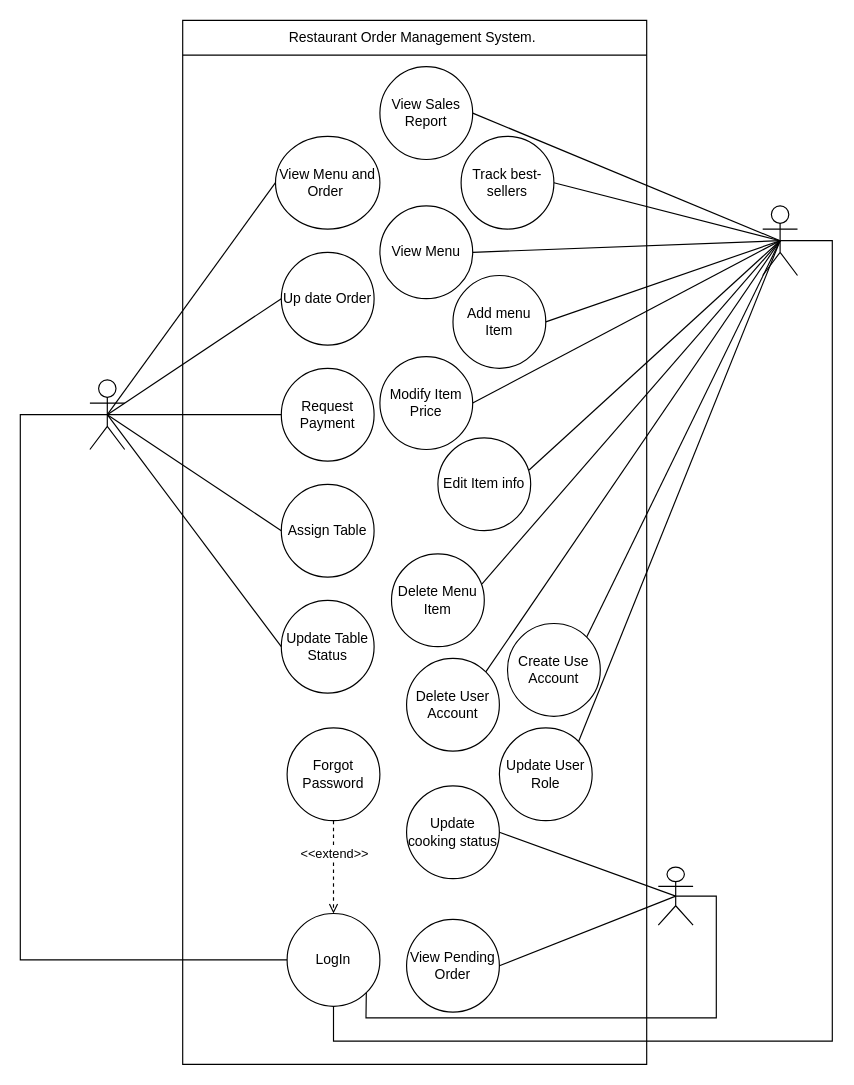
The diagram is 854 pixels wide and 1085 high, and some of its shapes have lost their labels. The centre of each missing label's shape, as x and y in pixels:
"Admin" goes at point (780, 240).
"Chef" goes at point (675, 895).
"Waiter" goes at point (107, 414).
